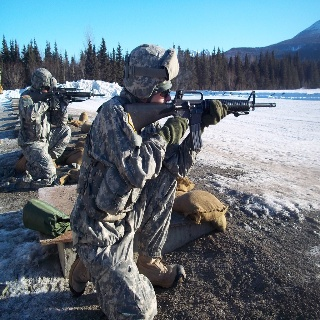rifle: (124, 90, 279, 132)
